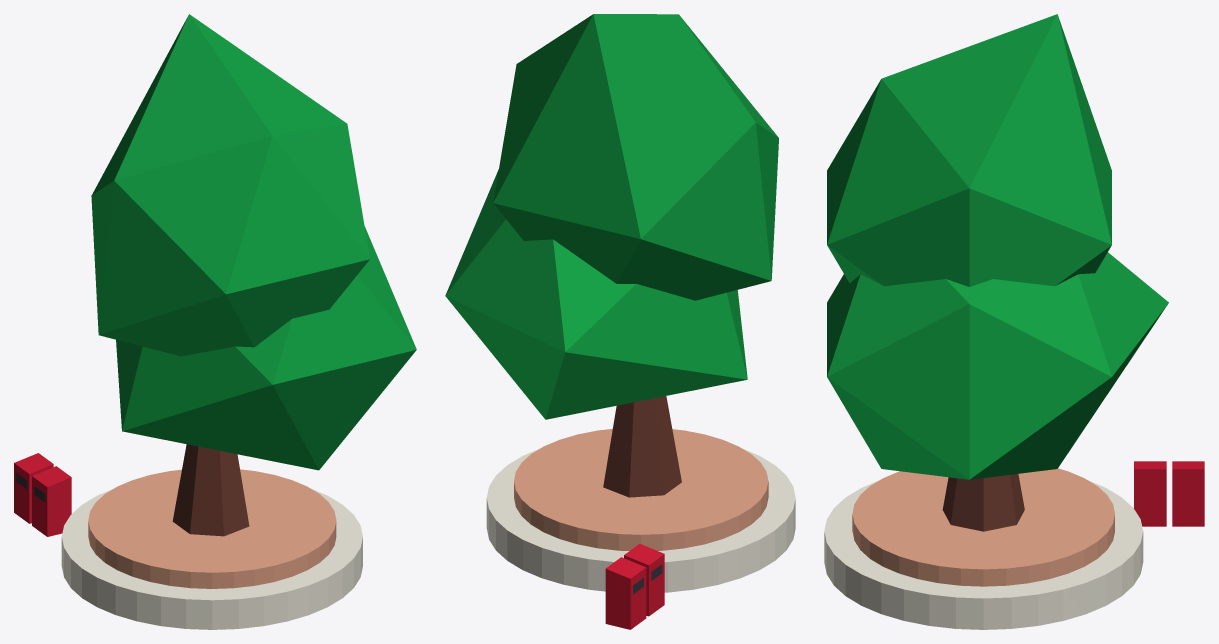
Rendered from 建筑物9.fbx.
3 views of the same model, side by side, from view 1: azimuth 30°, elevation 25°; view 2: azimuth 150°, elevation 25°; view 3: azimuth 270°, elevation 25° (orthographic). The views are drawn at different scales.
Parts seen in each view (by area): view 1: 桶5_1; view 2: 桶5_1; view 3: 桶5_1.
Part boxes in pixels (x1,y1,x2,y2): 桶5_1: [14, 14, 416, 629]; 桶5_1: [445, 14, 795, 629]; 桶5_1: [824, 14, 1204, 629].
Bounding box in the file's own units: 784 × 1286 × 799.
